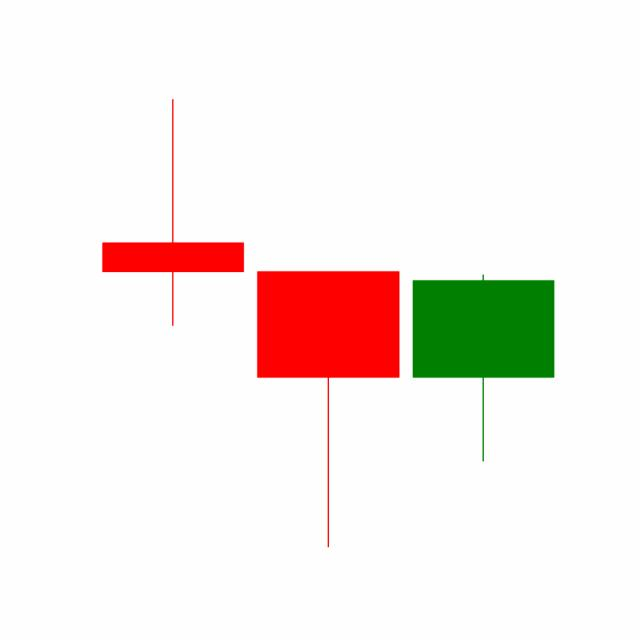Hammer: (249, 268, 406, 550)
